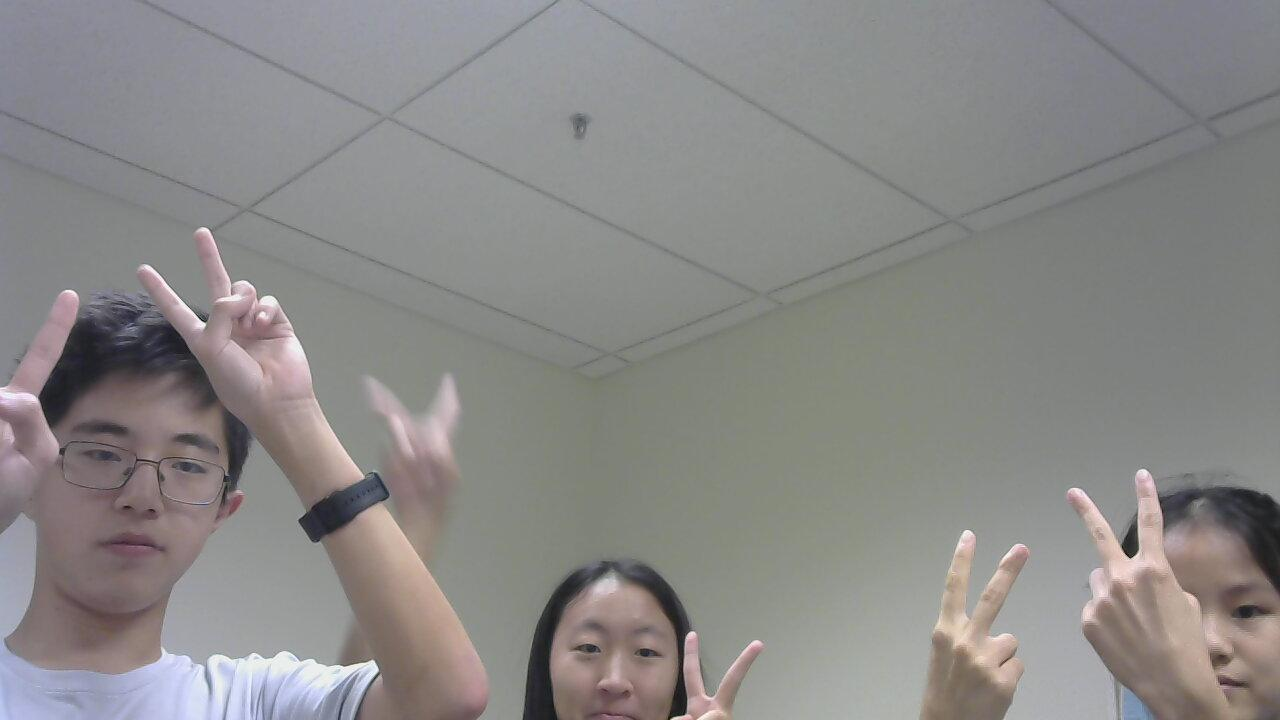peace: (131, 219, 326, 428), (1066, 459, 1205, 716), (916, 502, 1045, 720), (351, 367, 472, 536), (668, 612, 772, 720)
